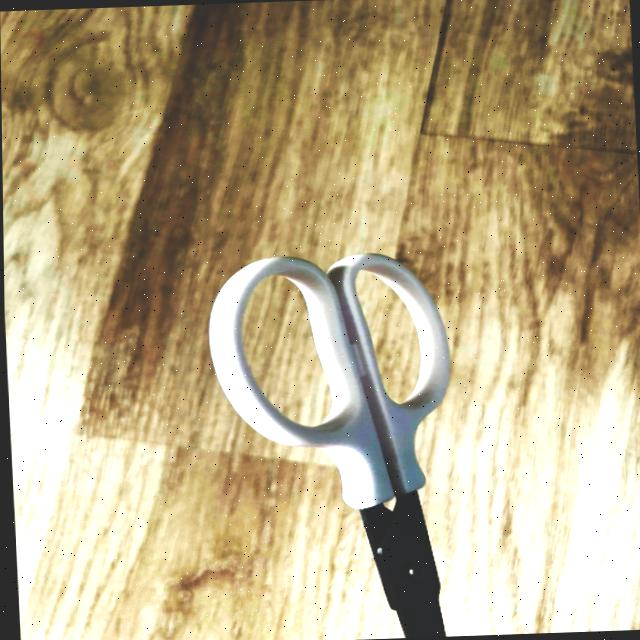Scissors: (208, 254, 449, 637)
